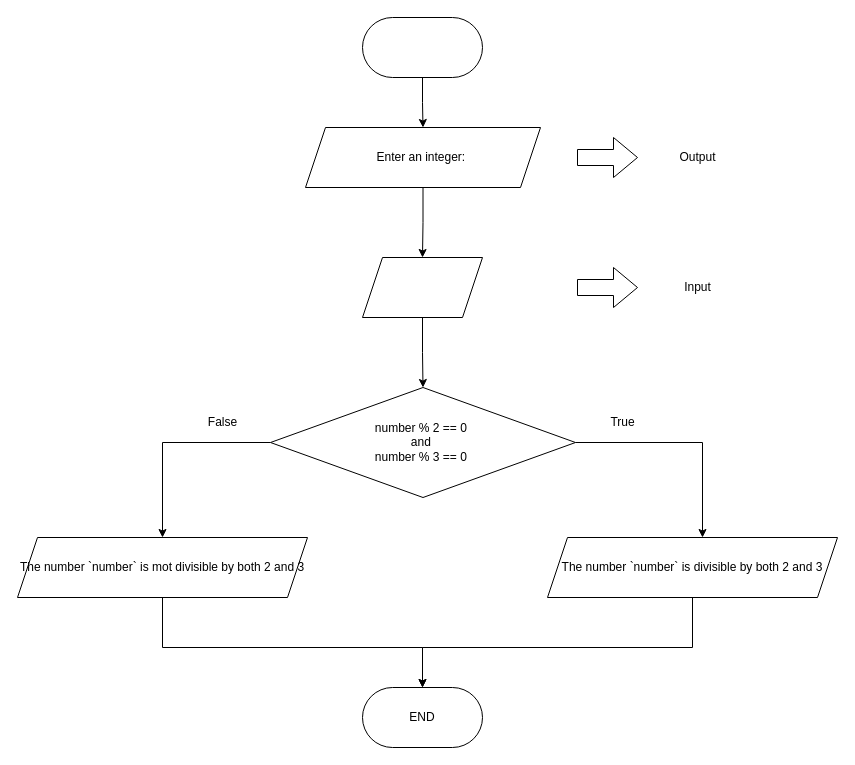
This 855x765 diagram has some shape labels left out. The box of each missing label's shape, as (x1, y1, x2, y2) in pixels:
Main: (362, 16, 482, 78)
number: (362, 256, 482, 318)
